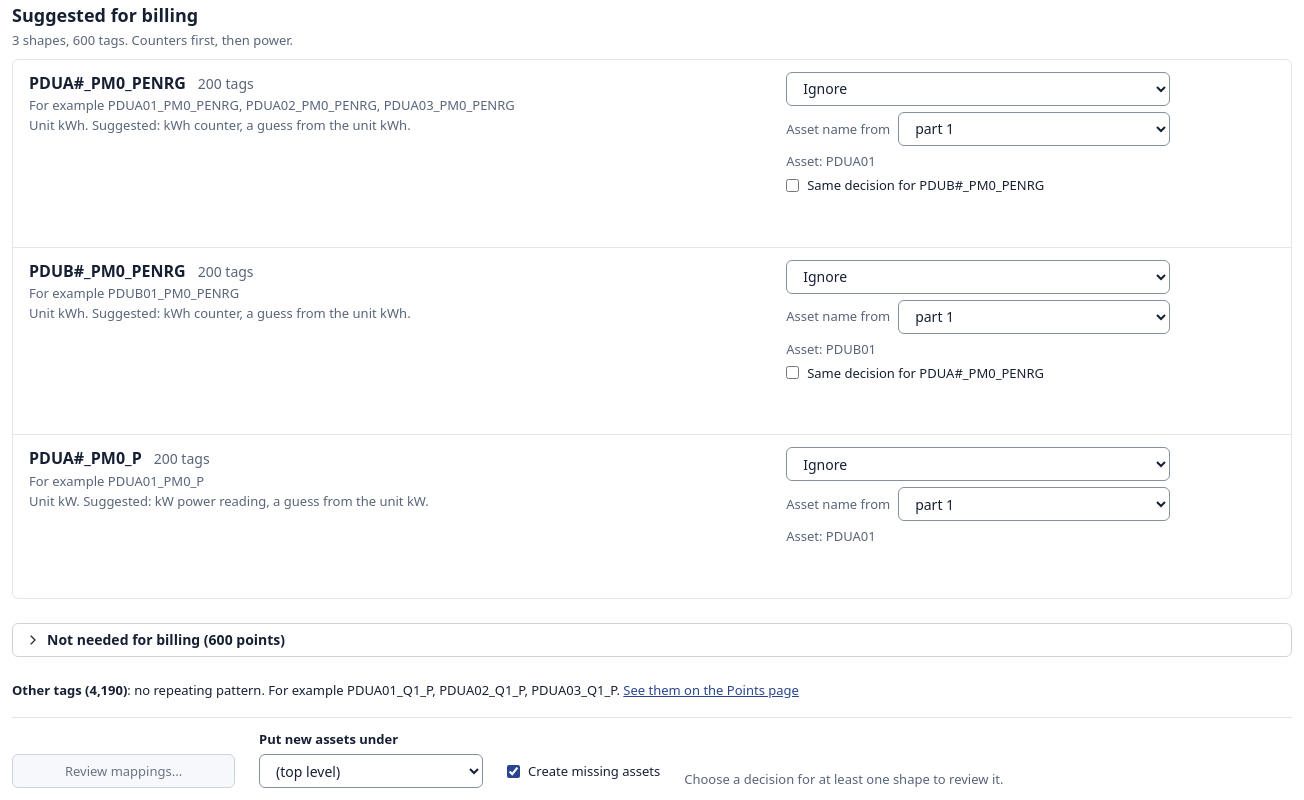
Scenario: SourceShapesPage: what it shows › every row starts at Ignore, and a row of the closed section can be decided once it is opened
The width and height of the screenshot is (1304, 800).
(page scrolled)
Expected: the element named "Shape PDUA#_PM0_PENRG" is shown, [13, 60, 1291, 248]
Click the button "Not needed for billing (600 points)" at (166, 640), box [12, 623, 1292, 657]
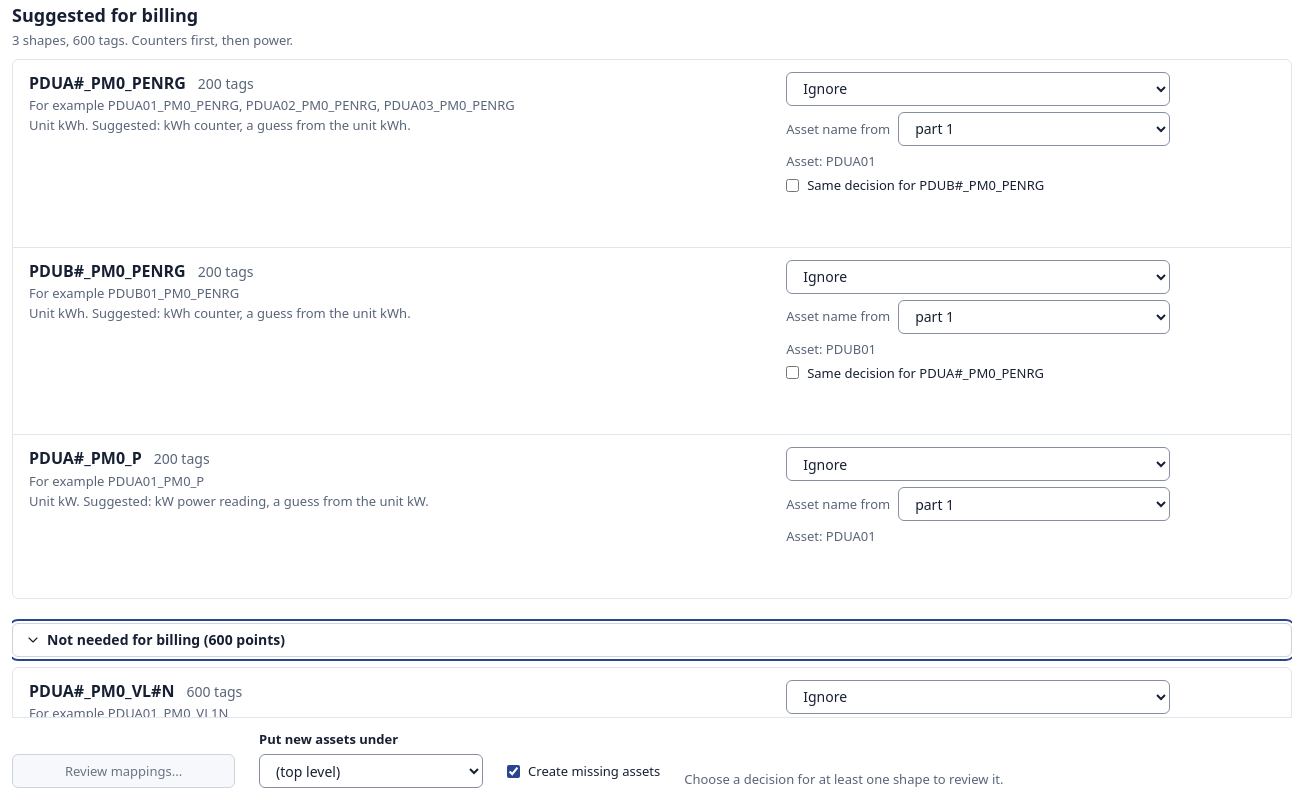
Select "Map as voltage" in the dropdown named "Decision for PDUA#_PM0_VL#N" at (978, 697), box [786, 680, 1170, 714]
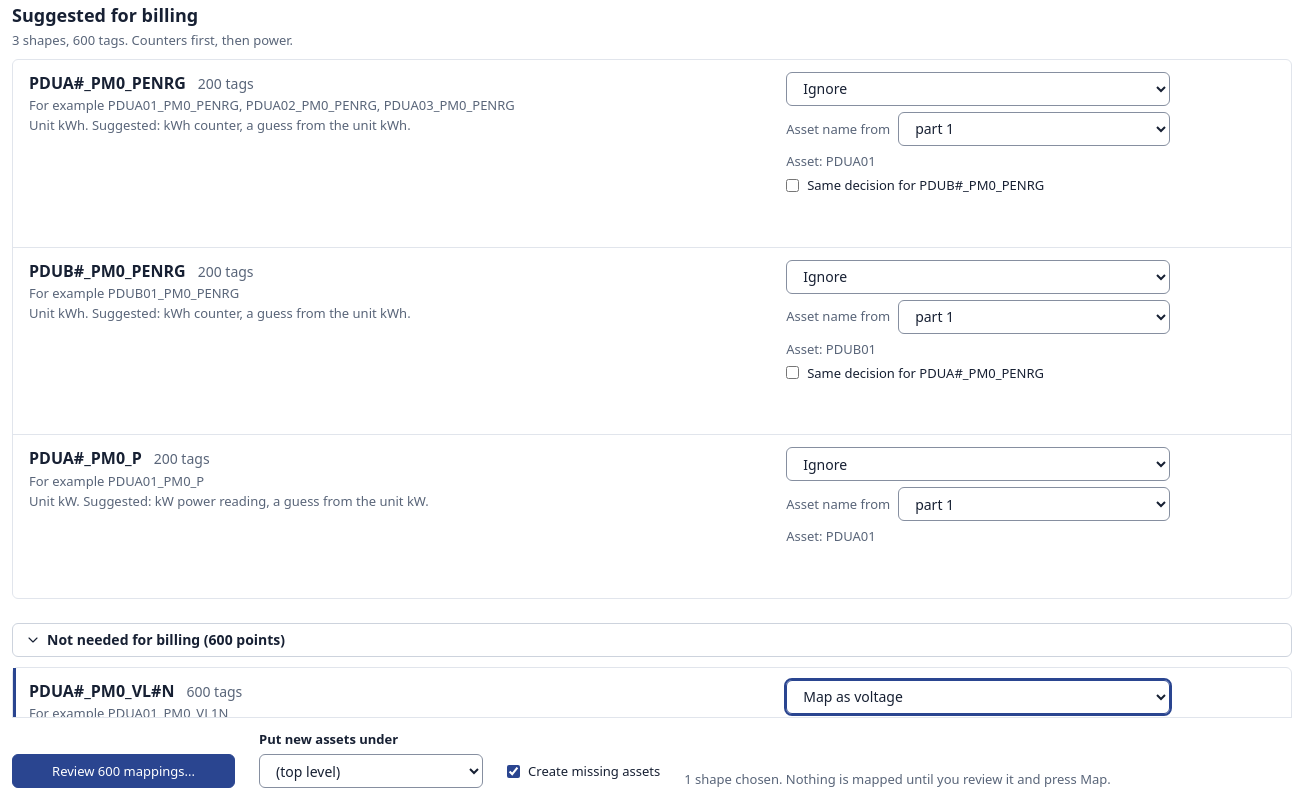
Now the button "Review 600 mappings..." is shown, box [12, 754, 235, 788]
